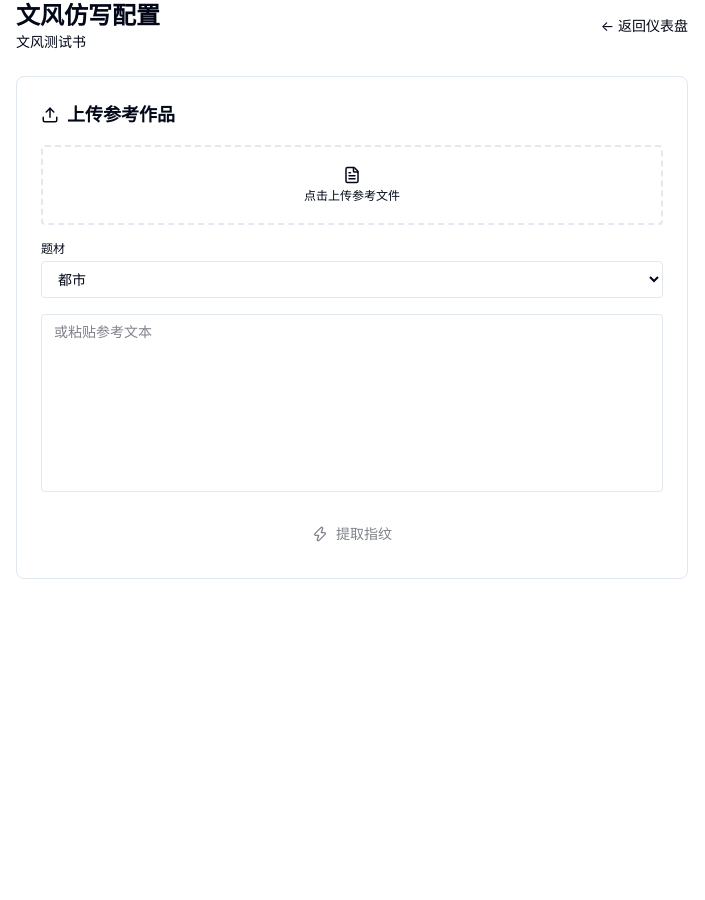
Test: StyleManager Page › shows preview of fingerprint JSON
Expected: the heading "文风仿写配置" is shown, [16, 0, 160, 32]
Type "参考文本内容，不少于50字。" into the text box with placeholder "或粘贴参考文本" at (352, 403), box [41, 314, 663, 492]
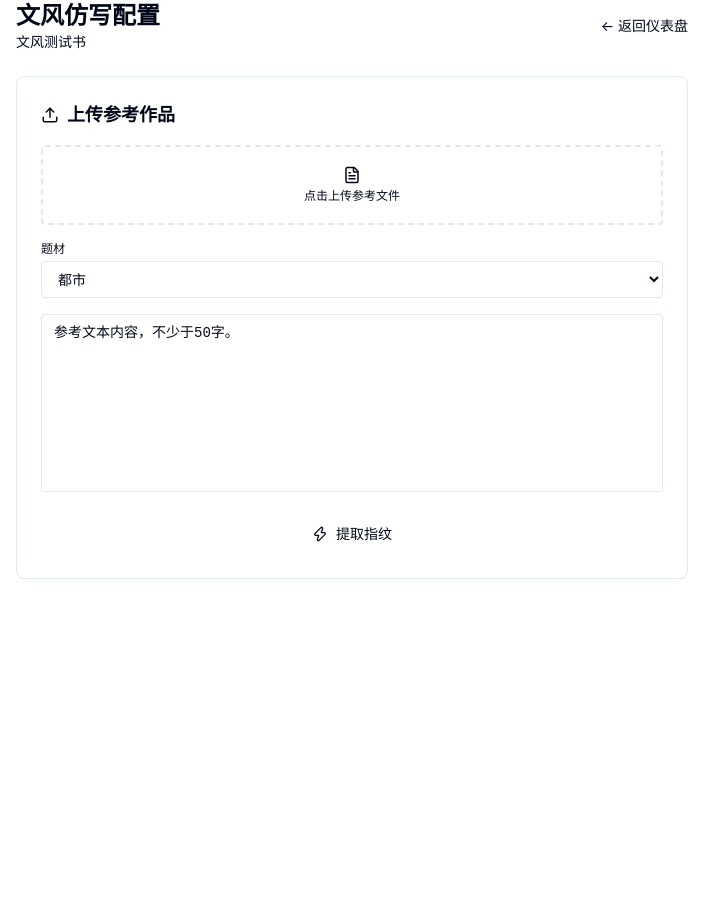
Click the button "提取指纹" at (352, 534), box [41, 514, 663, 554]
(page scrolled)
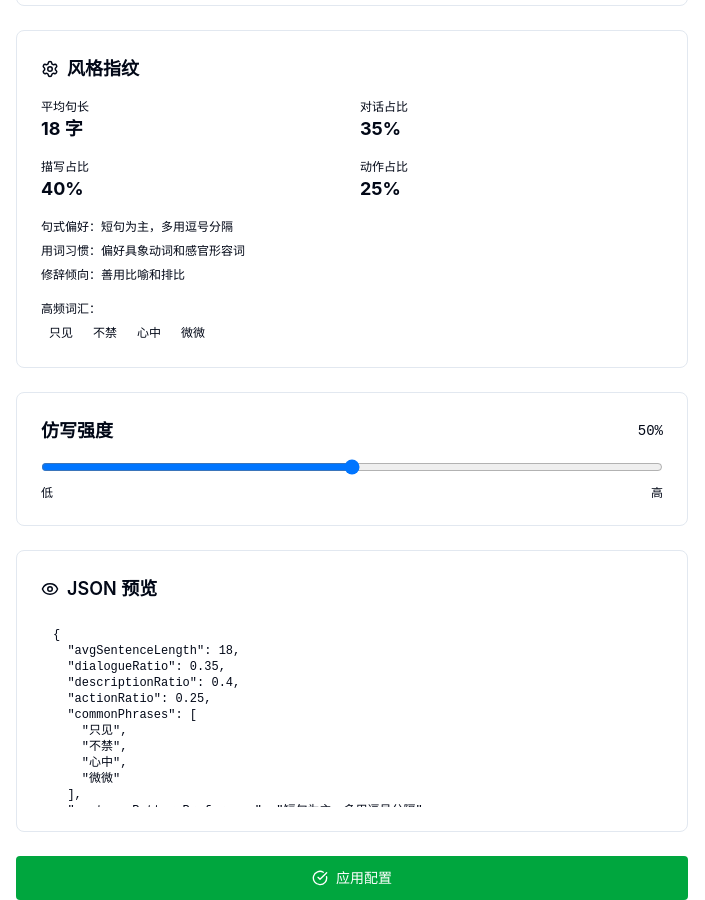
Result: the heading "JSON 预览" is shown at [67, 575, 157, 603]
Result: the text "\"avgSentenceLength\"" is shown at [53, 628, 430, 866]
